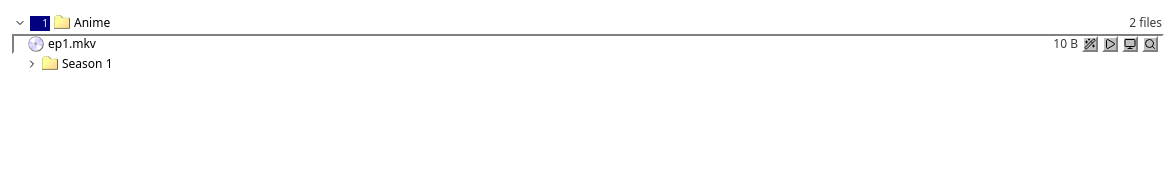
FolderView file menu › opens five entries on right click
This screenshot has width=1176, height=184.
Right-click the text titled "ep1.mkv" at point(72, 44), box [48,35,96,52]
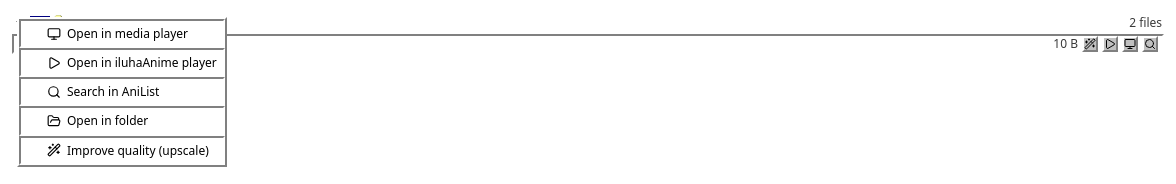
Check: the number of menu items is 5, box [19,19,225,48]; [19,48,225,77]; [19,77,225,106]; [19,106,225,136]; [19,136,225,165]
